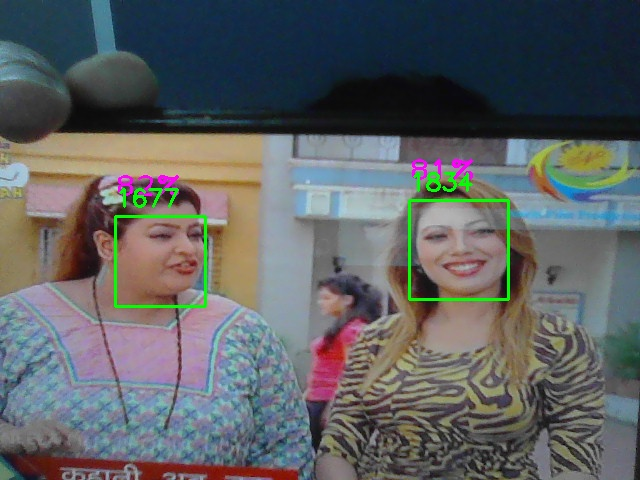fake: (409, 200, 509, 300), (115, 216, 206, 307)
